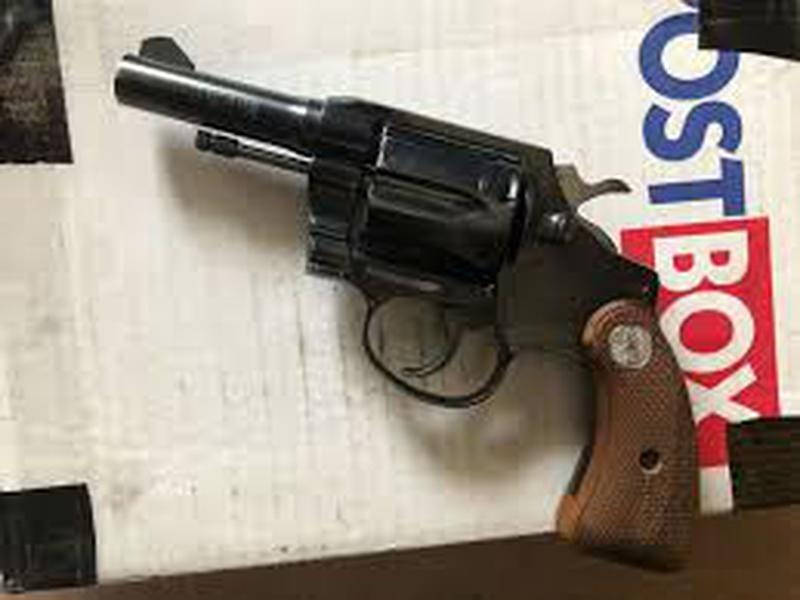gun: (107, 32, 710, 572)
